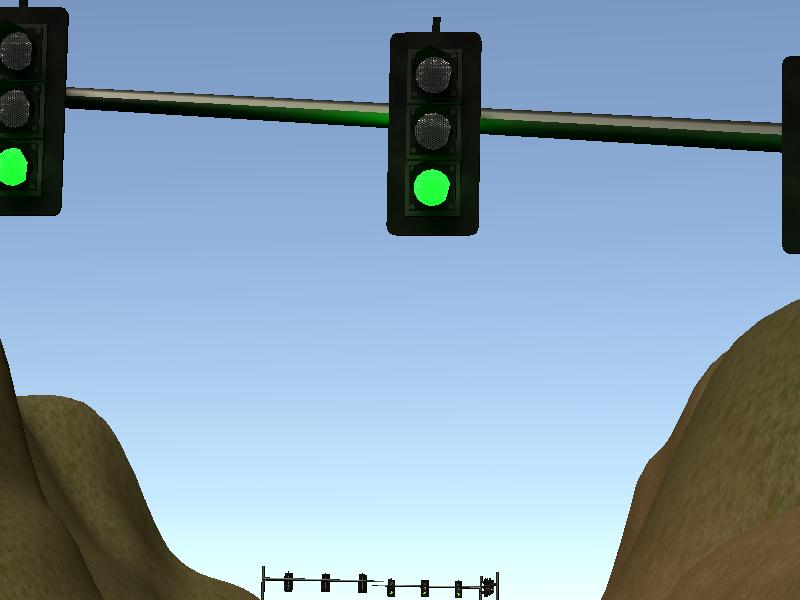green: (388, 30, 479, 236), (1, 6, 65, 215)
